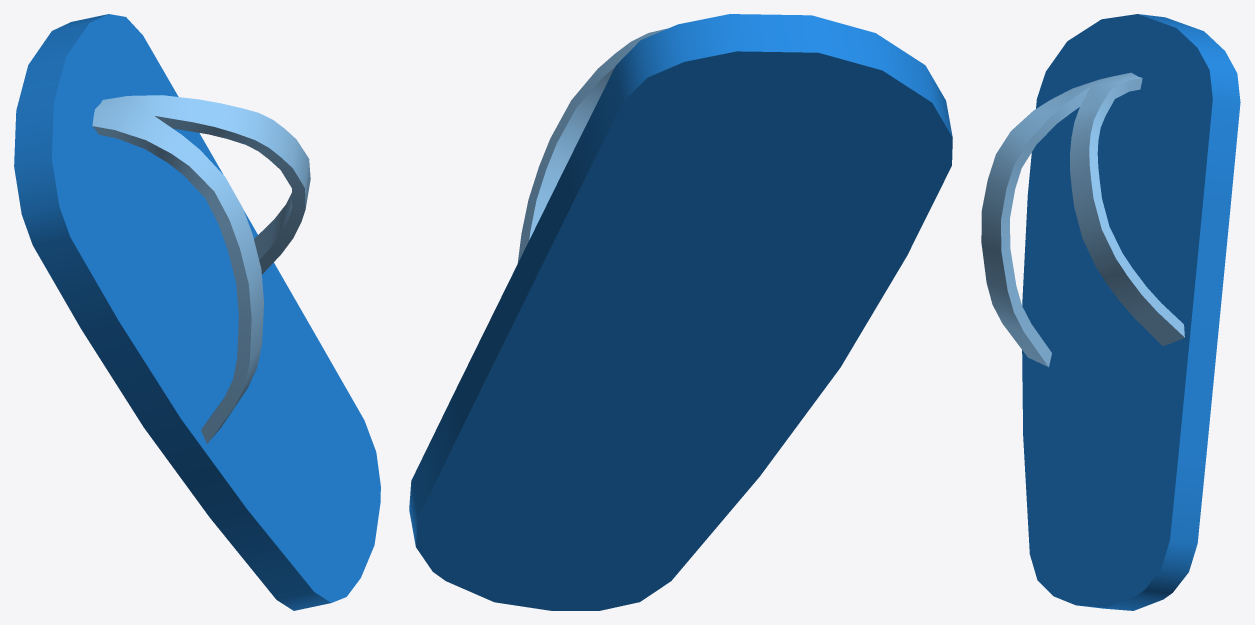
Rendered from thong_sandal.glb.
3 renders of one model, left to right at view 1: azimuth 30°, elevation 25°; view 2: azimuth 150°, elevation 25°; view 3: azimuth 270°, elevation 25°, orthographic. The views are drawn at different scales.
Visible parts, largest first — view 1: Cube.6116; view 2: Cube.6116; view 3: Cube.6116.
Part boxes in pixels (bbox=[...]): Cube.6116: bbox=[14, 14, 380, 610]; Cube.6116: bbox=[409, 14, 952, 610]; Cube.6116: bbox=[981, 14, 1240, 610].
Bounding box in the file's own units: 1.64 × 2.25 × 1.05.
Materials: 1 (1 with a texture image).
